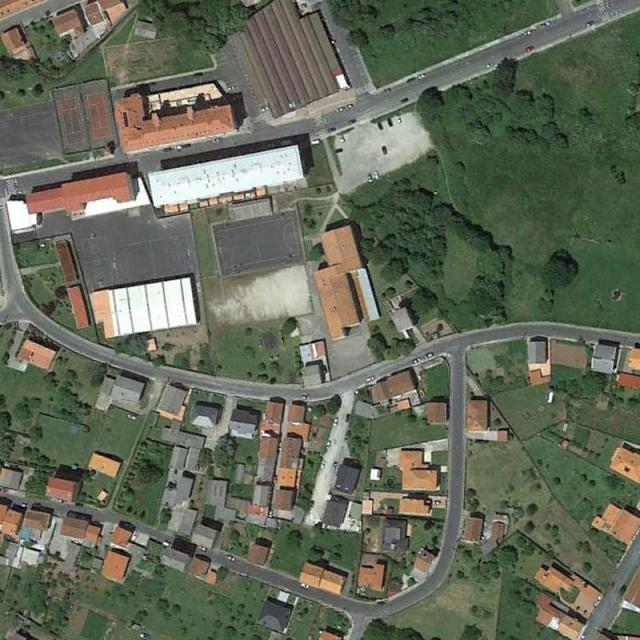vehicle: (20, 502, 32, 509), (425, 352, 434, 360), (386, 118, 394, 127), (300, 582, 310, 589), (227, 555, 237, 562), (162, 541, 172, 548), (411, 358, 421, 365), (376, 122, 384, 130), (338, 135, 346, 143), (260, 106, 269, 113), (345, 103, 354, 110), (365, 376, 375, 382), (326, 127, 336, 133), (400, 98, 410, 104), (182, 144, 192, 150), (526, 46, 534, 53), (162, 147, 173, 152), (132, 533, 138, 542), (395, 116, 402, 123), (337, 107, 344, 114), (366, 175, 372, 183), (374, 171, 380, 179), (381, 146, 387, 154), (418, 74, 426, 80), (198, 546, 207, 551), (525, 30, 532, 36), (609, 582, 614, 590), (321, 462, 326, 470), (333, 418, 338, 426), (348, 119, 356, 124), (586, 22, 594, 27), (214, 138, 222, 143), (486, 63, 494, 68), (174, 146, 182, 150), (227, 86, 235, 90), (336, 149, 342, 154), (326, 442, 330, 449)
